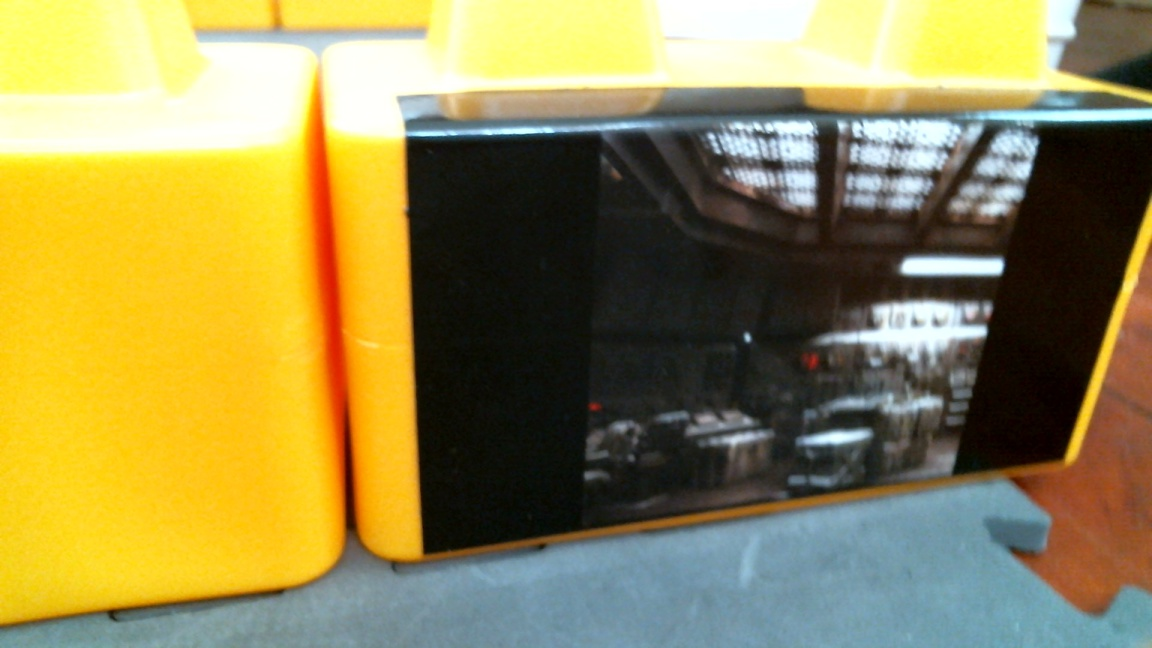skystone: (310, 1, 1104, 567)
